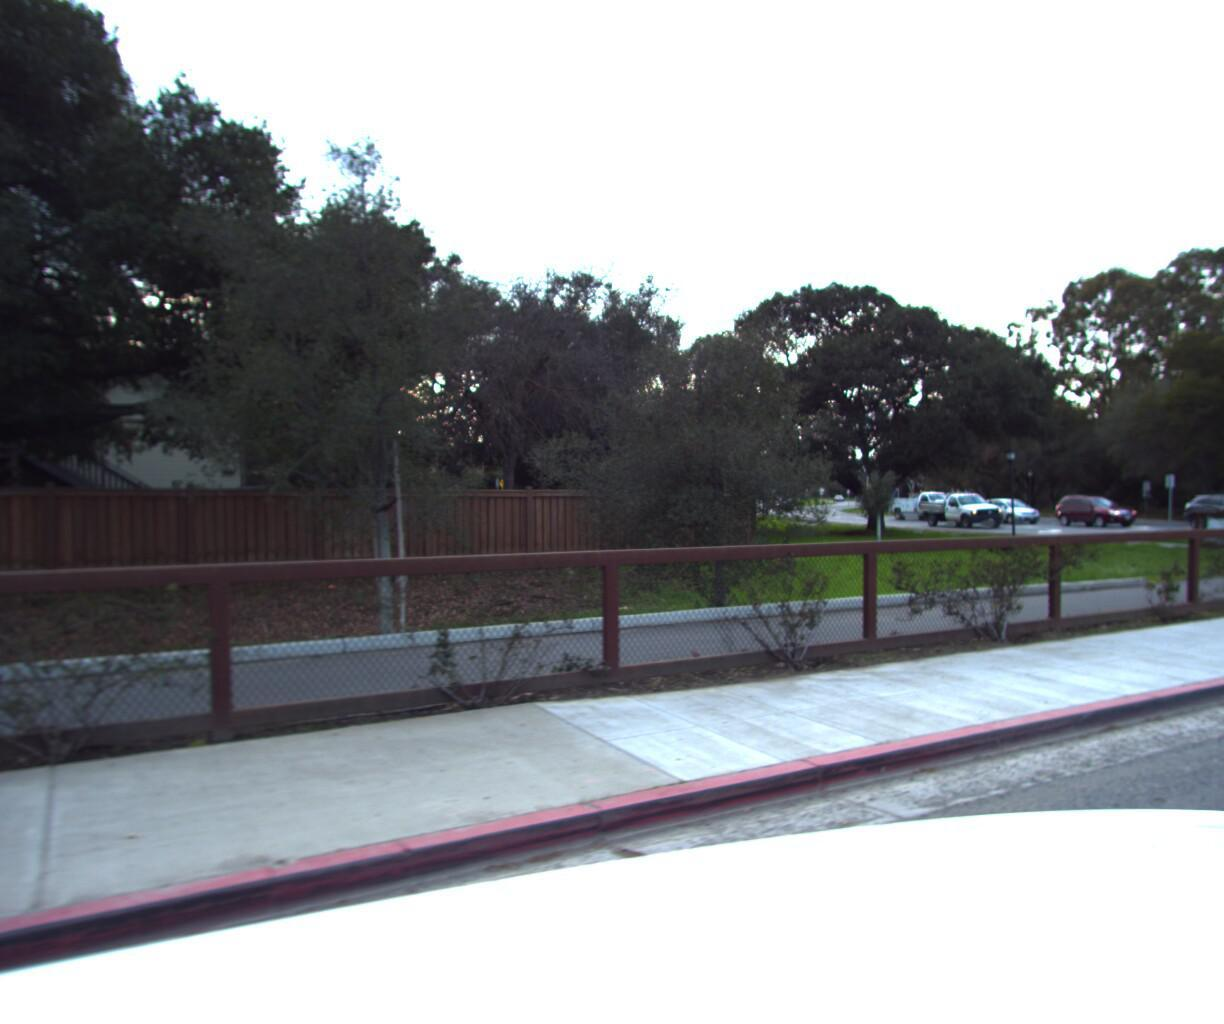car: (917, 483, 1012, 522), (1053, 490, 1147, 523), (884, 480, 971, 514), (1180, 484, 1224, 530), (977, 493, 1048, 519)
